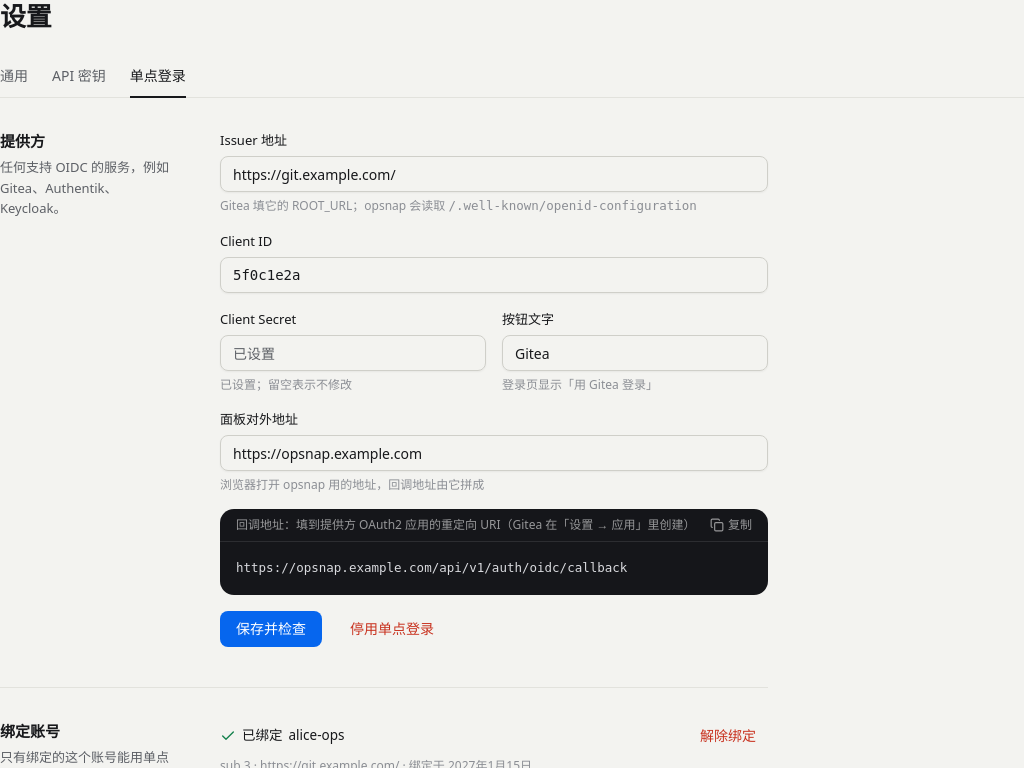
Scenario: 设置 · 单点登录 · 绑定账号 › 已绑定时显示账号、sub 和 issuer，解除绑定需要确认
Expected: the text "alice-ops" is shown, [288,725,344,746]
Click the button "解除绑定".
click(728, 736)  # box [688,720,768,752]
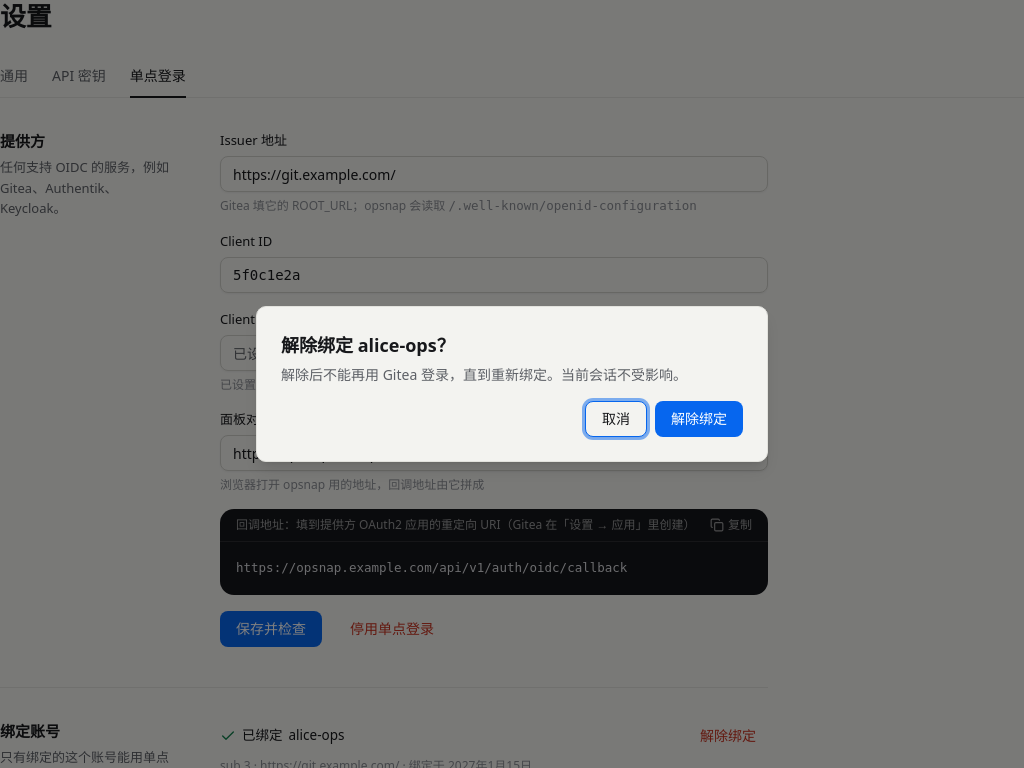
Expected: the dialog shows "解除后不能再用 Gitea 登录，直到重新绑定", [256,306,768,462]
Click the button "解除绑定".
click(699, 419)  # box [655,401,743,437]
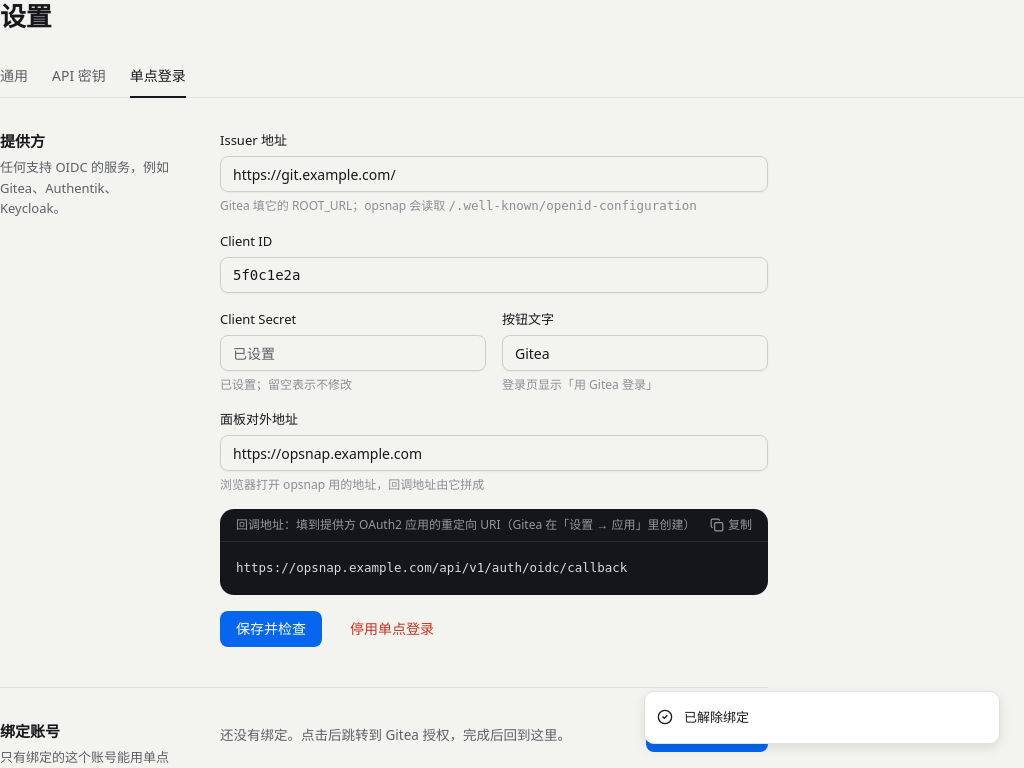
Expected: the button "绑定 Gitea 账号" is shown, [646,720,768,752]
